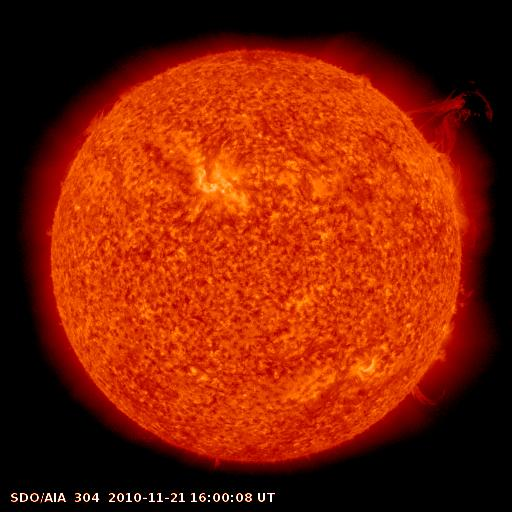prominence: (397, 81, 508, 187), (402, 276, 481, 418), (79, 75, 150, 146)
